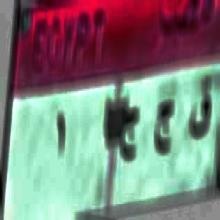1: (51, 105, 75, 166)
7aa: (149, 91, 175, 169)
jeem: (120, 98, 142, 178)
qaaf: (190, 76, 215, 147)
